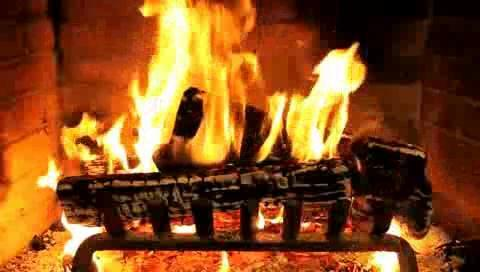fire: (118, 7, 377, 173)
